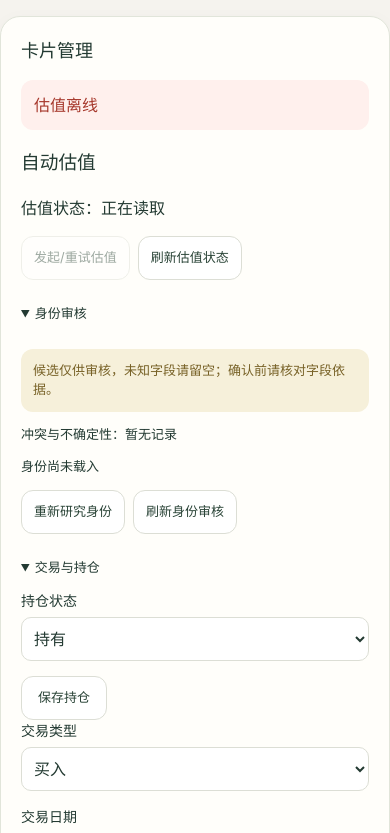
Test: recovers valuation reads after failure and supports starting a queued job
Expected: the text "估值离线" is shown, [21, 80, 369, 130]
Expected: the button "发起/重试估值" is disabled, [21, 236, 130, 280]
Click the button "刷新估值状态": [190, 258] box [138, 236, 242, 280]
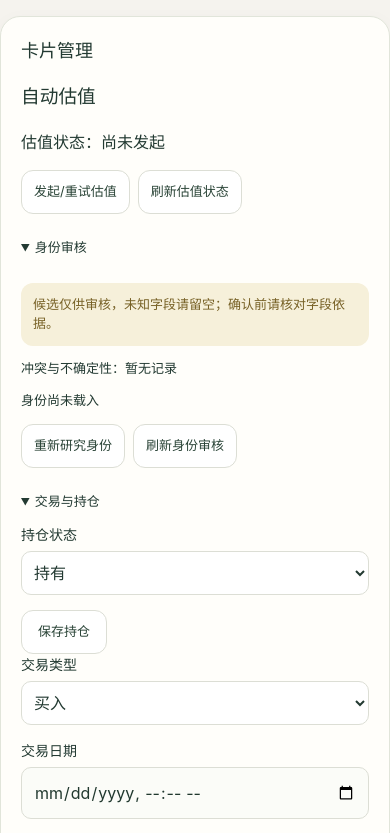
Expected: the text "估值状态：尚未发起" is shown, [21, 132, 165, 152]
Click the button "发起/重试估值": [75, 192] box [21, 170, 130, 214]
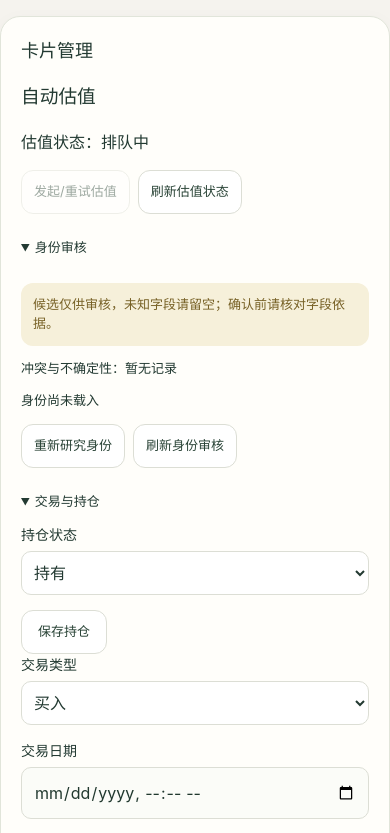
Expected: the text "估值状态：排队中" is shown, [21, 132, 149, 152]
Expected: the button "发起/重试估值" is disabled, [21, 170, 130, 214]
